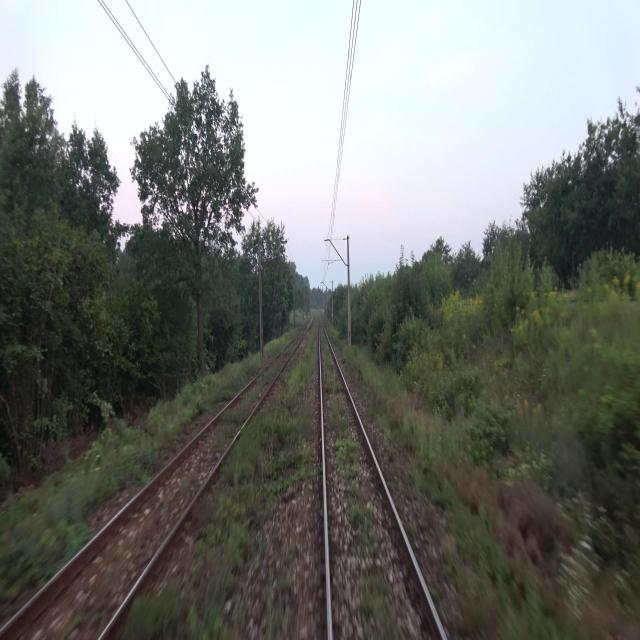rail-track: (0, 328, 306, 639), (320, 320, 443, 639)
